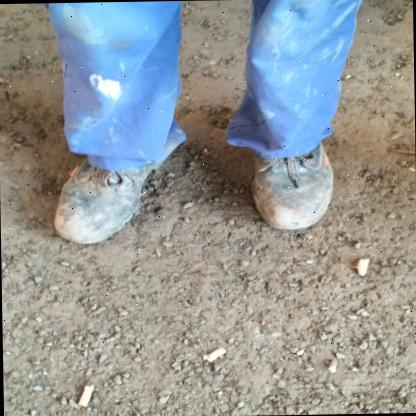bota: (50, 141, 162, 247), (254, 142, 338, 232)
